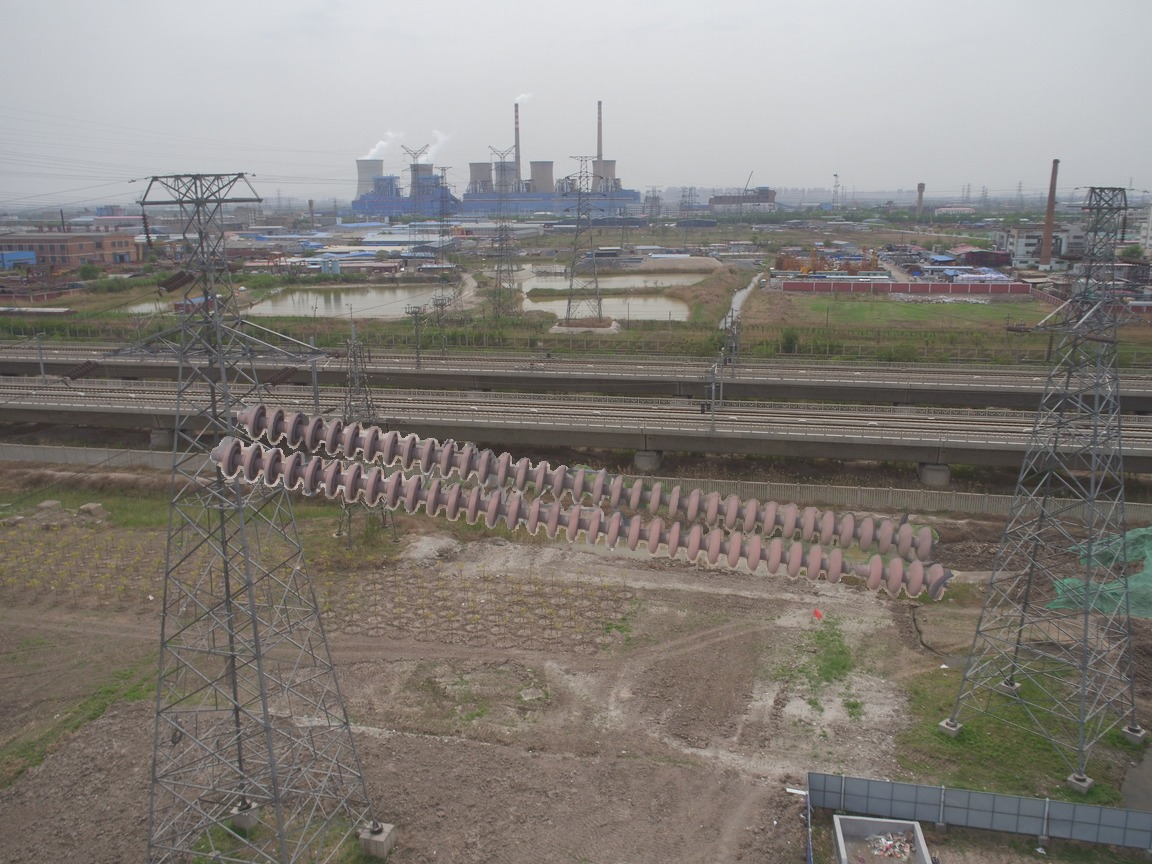defect: (821, 546, 887, 591)
